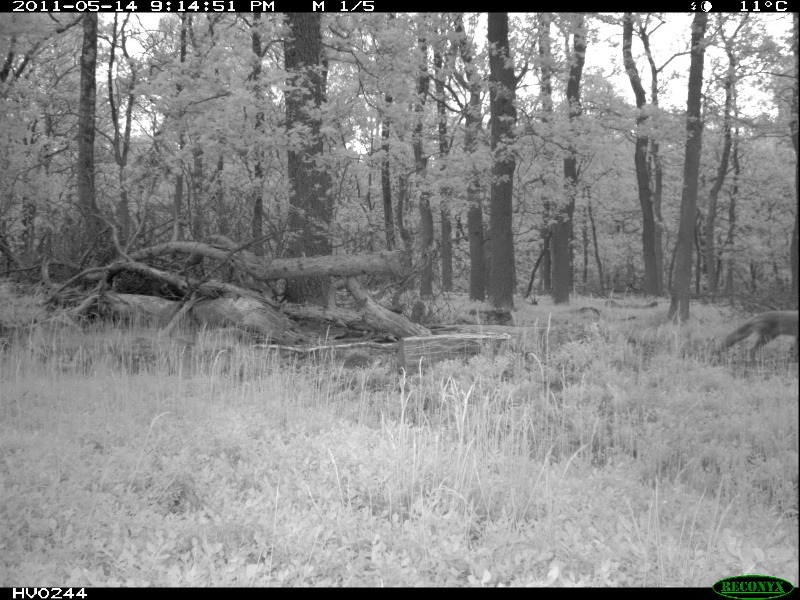fox: (713, 304, 800, 370)
